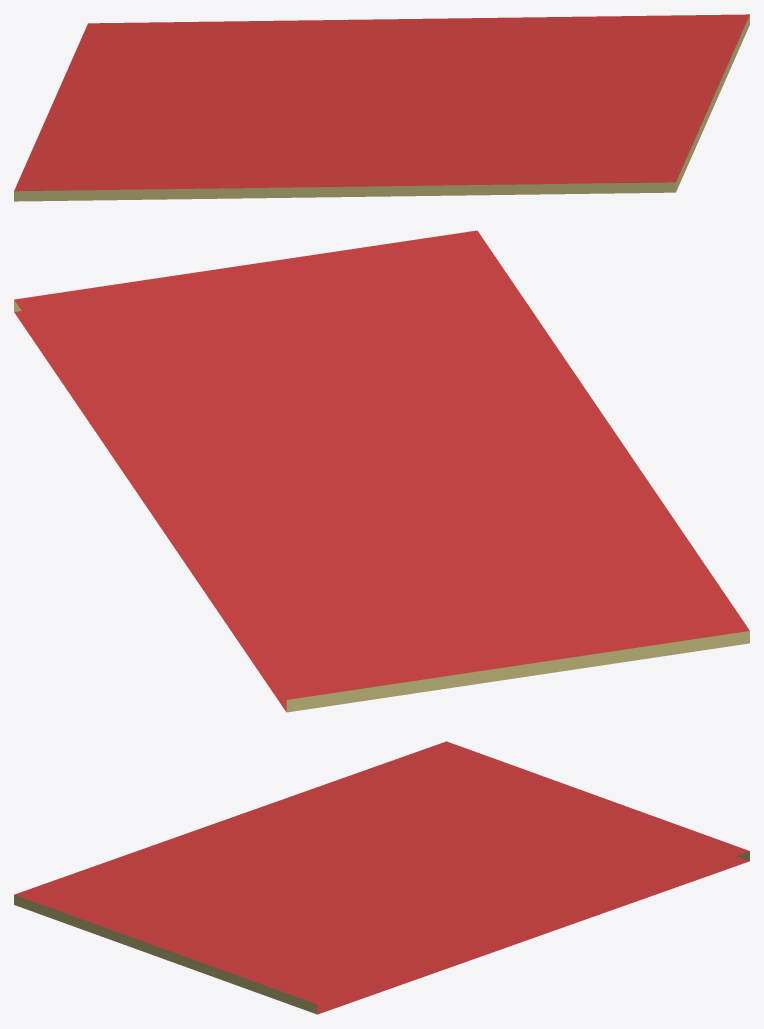
The picture shows the model from 3 angles, top to bottom: view 1: azimuth 30°, elevation 25°; view 2: azimuth 150°, elevation 25°; view 3: azimuth 270°, elevation 25°; orthographic projection. The views are drawn at different scales.
Size of the model in its own units: 6.81 by 6.55 by 0.692.
